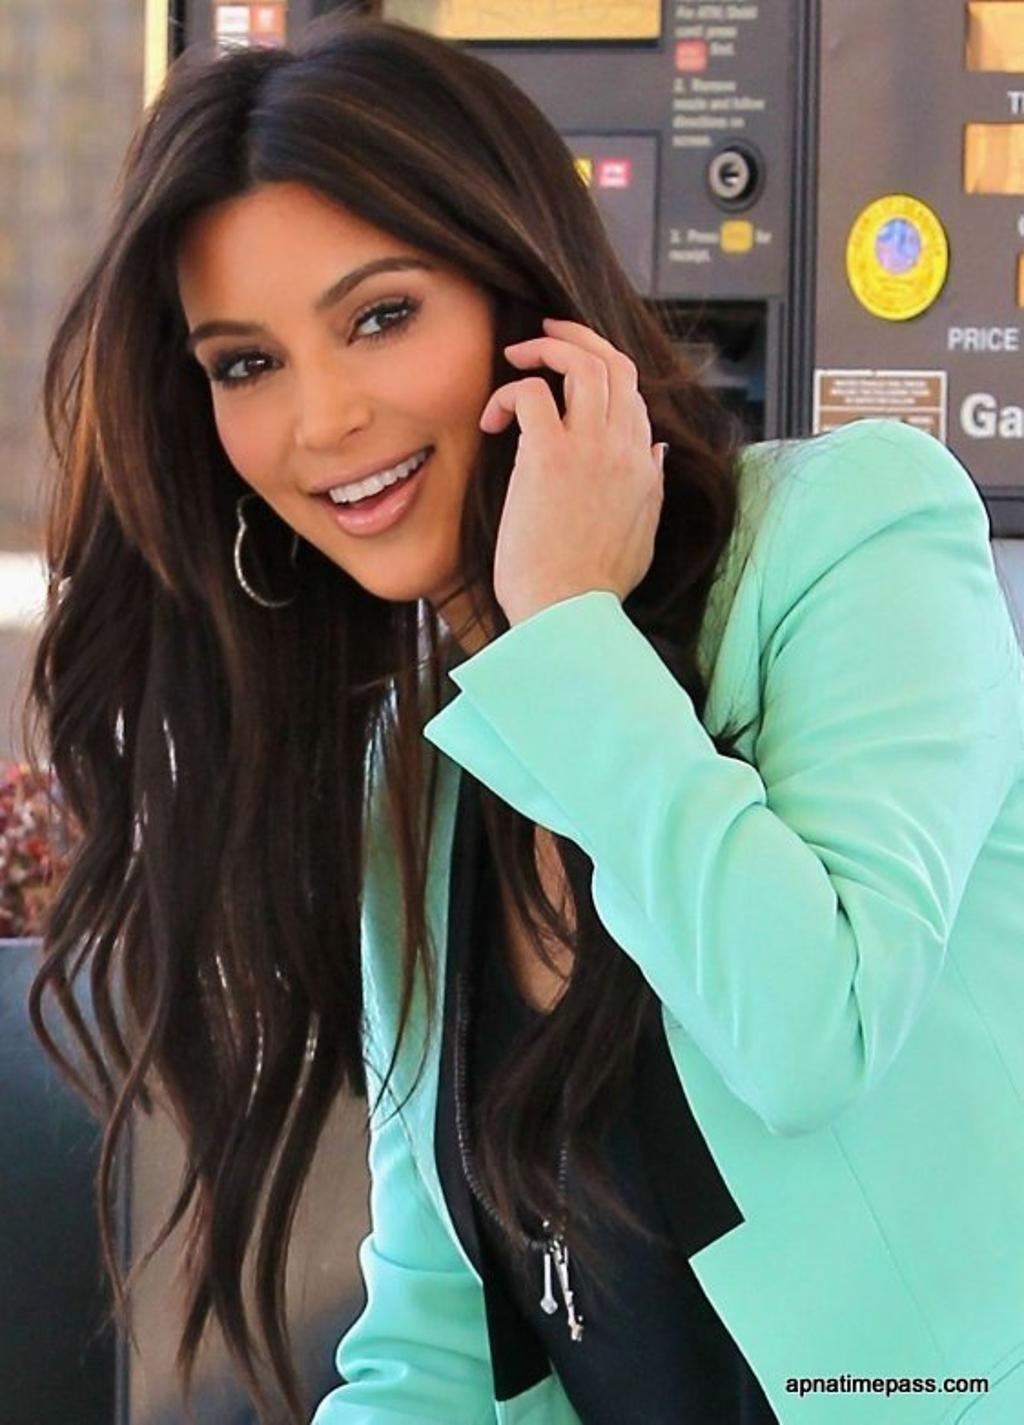face: (175, 186, 506, 598)
